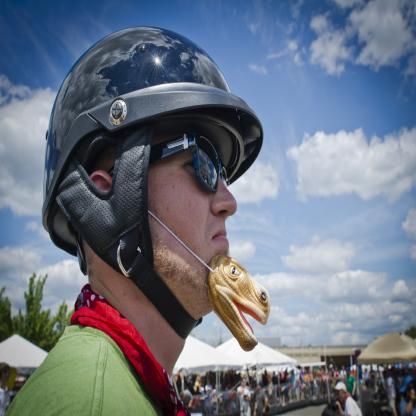Helmet: (44, 17, 260, 328)
